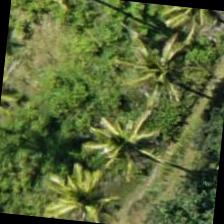Kelapa_Sawit: (80, 96, 179, 196), (113, 23, 212, 122), (33, 157, 130, 223)
